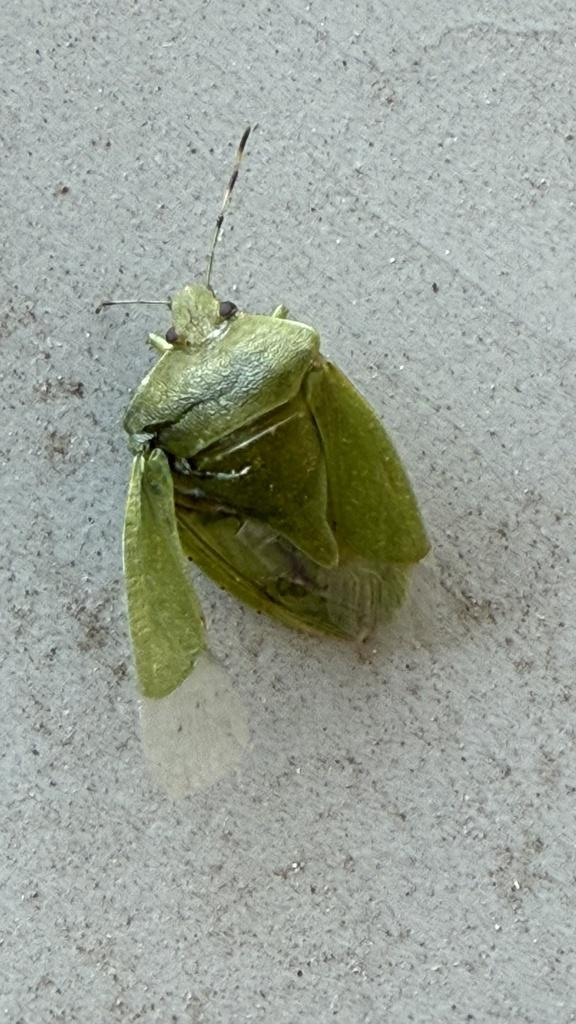stink_bugs: (0, 80, 576, 856)
